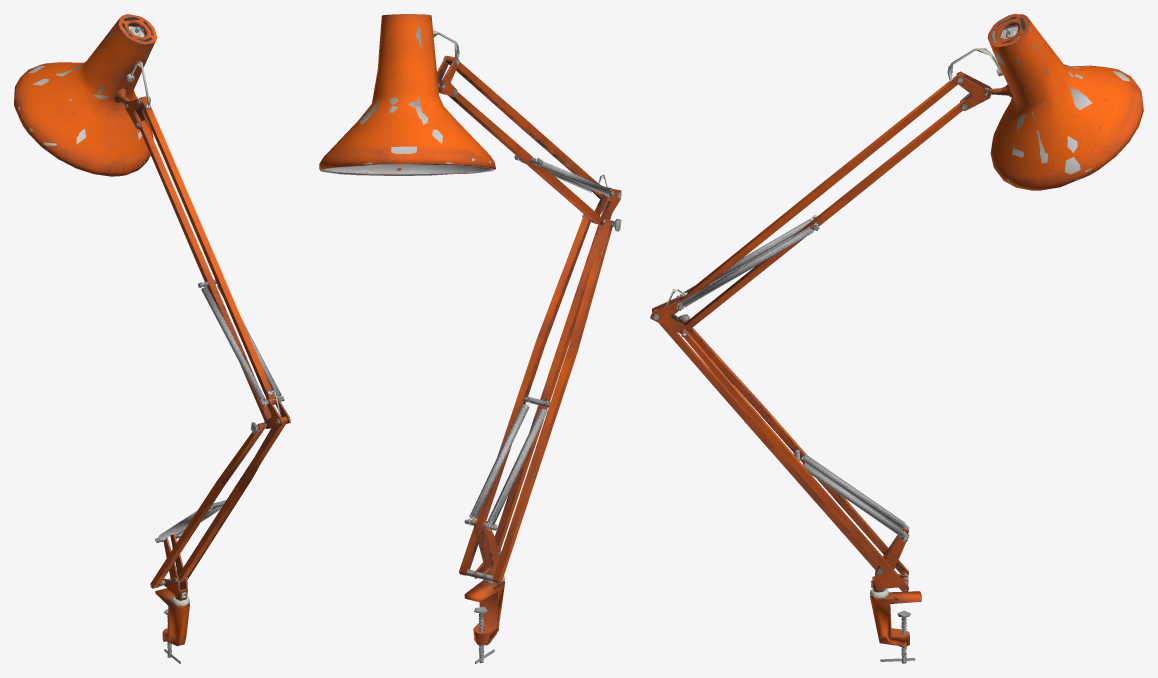
The model's file is ph-desk-lamp-arm-01-lite.glb.
The picture shows the model from 3 angles, left to right: view 1: azimuth 30°, elevation 25°; view 2: azimuth 150°, elevation 25°; view 3: azimuth 270°, elevation 25°; orthographic projection. The views are drawn at different scales.
Parts seen in each view (by area): view 1: desk_lamp_arm_01; view 2: desk_lamp_arm_01; view 3: desk_lamp_arm_01.
Part boxes in pixels (x1,y1,x2,y2): desk_lamp_arm_01: [14, 14, 290, 663]; desk_lamp_arm_01: [319, 14, 621, 663]; desk_lamp_arm_01: [650, 14, 1143, 663].
Size of the model in its own units: 0.2017 by 0.8926 by 0.6132.
Materials: 2 (2 with a texture image).
